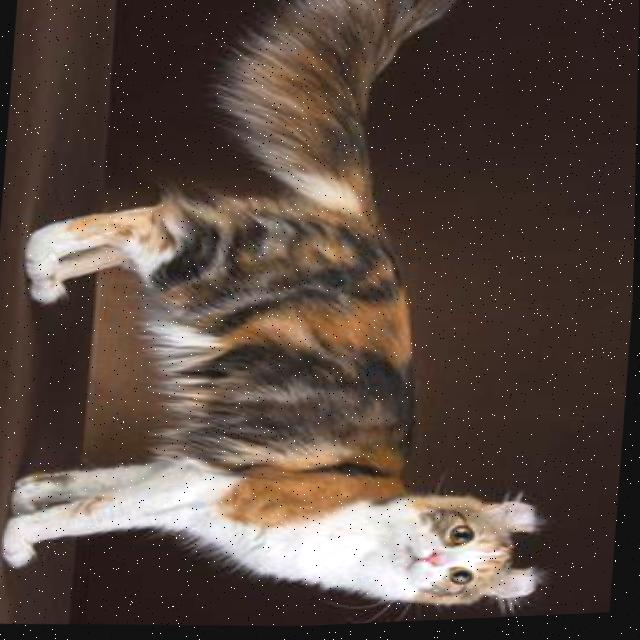American Curl: (0, 0, 595, 637)
